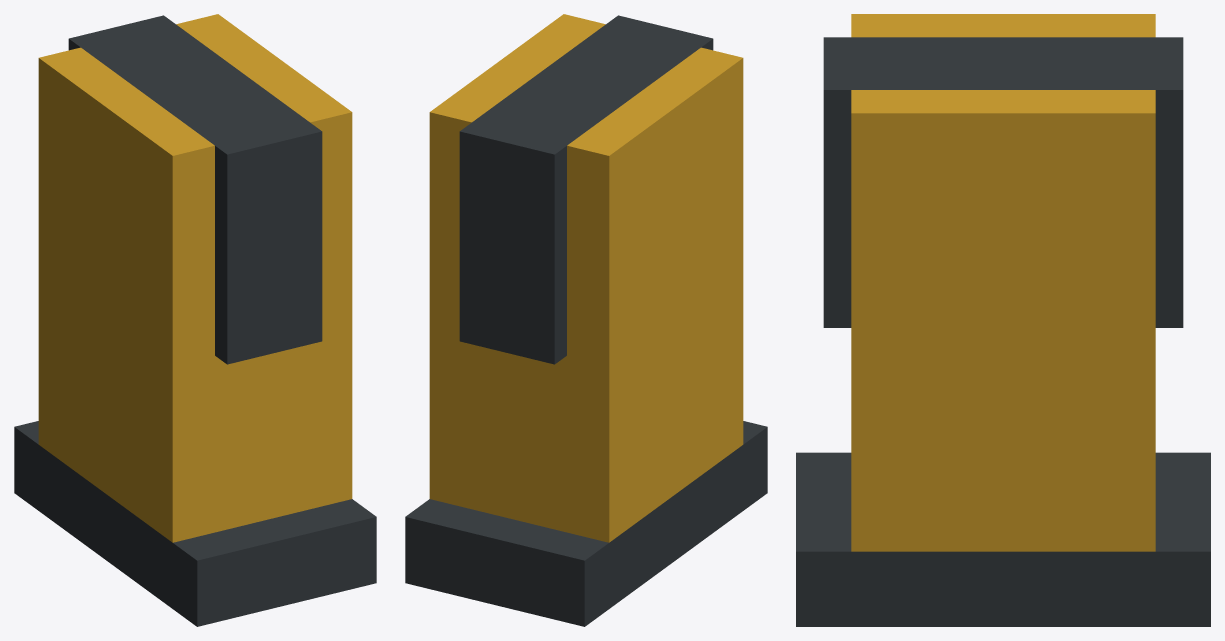
Rendered from cement_mixer_drive.glb.
The picture shows the model from 3 angles, left to right: view 1: azimuth 30°, elevation 25°; view 2: azimuth 150°, elevation 25°; view 3: azimuth 270°, elevation 25°; orthographic projection. The views are drawn at different scales.
Parts seen in each view (by area): view 1: body:compound; view 2: body:compound; view 3: body:compound.
Part boxes in pixels (bbox=[...]): body:compound: bbox=[14, 14, 376, 626]; body:compound: bbox=[405, 14, 767, 626]; body:compound: bbox=[796, 14, 1210, 626].
Bounding box in the file's own units: 0.5312 × 1.28 × 0.9375.
